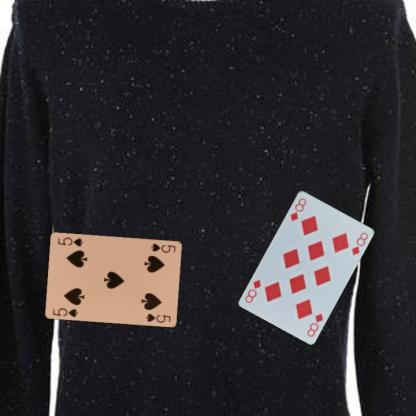5s: (148, 241, 177, 254), (50, 305, 79, 318)
8d: (305, 310, 324, 338), (288, 196, 307, 223)
